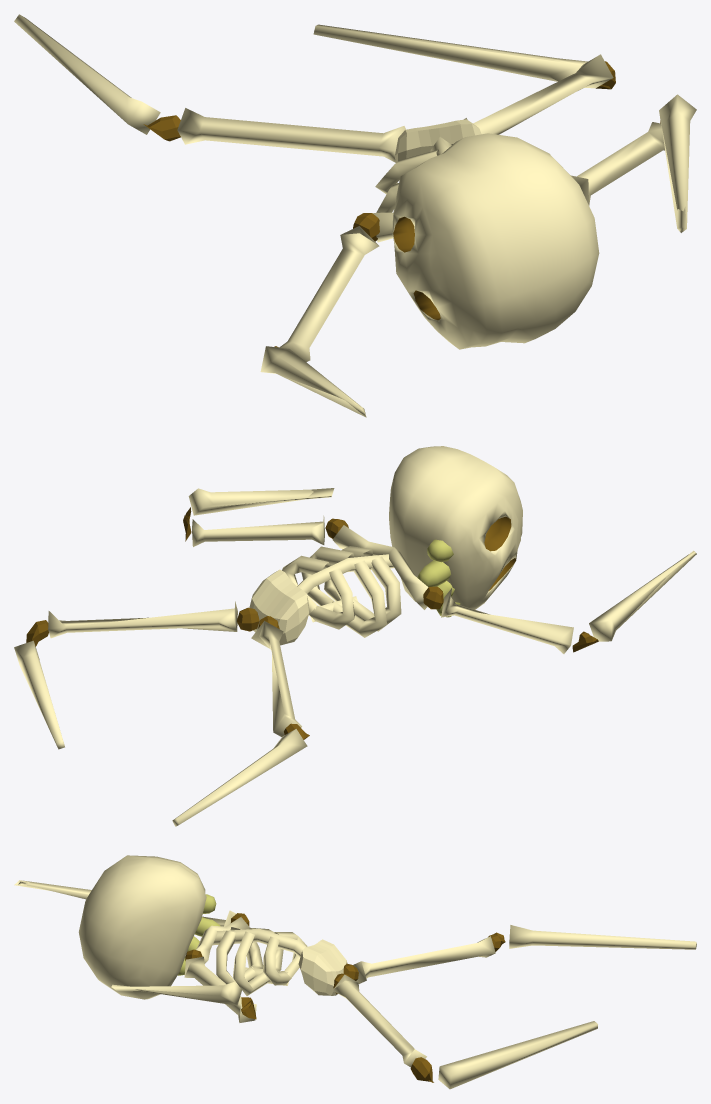
The model's file is Skeleton Flat.fbx.
3 views of the same model, one above another, from view 1: azimuth 30°, elevation 25°; view 2: azimuth 150°, elevation 25°; view 3: azimuth 270°, elevation 25° (orthographic). The views are drawn at different scales.
Visible parts, largest first — view 1: Skelly Flat; view 2: Skelly Flat; view 3: Skelly Flat.
Part boxes in pixels (left/top/right/bottom): Skelly Flat: left=14, top=14, right=696, bottom=417; Skelly Flat: left=14, top=446, right=696, bottom=826; Skelly Flat: left=14, top=855, right=696, bottom=1089.
Size of the model in its own units: 256 by 54.83 by 161.
